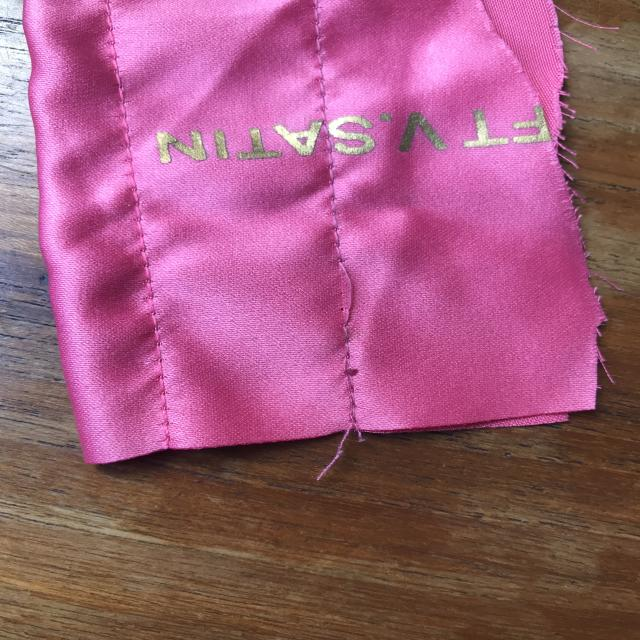skip: (320, 250, 371, 341)
